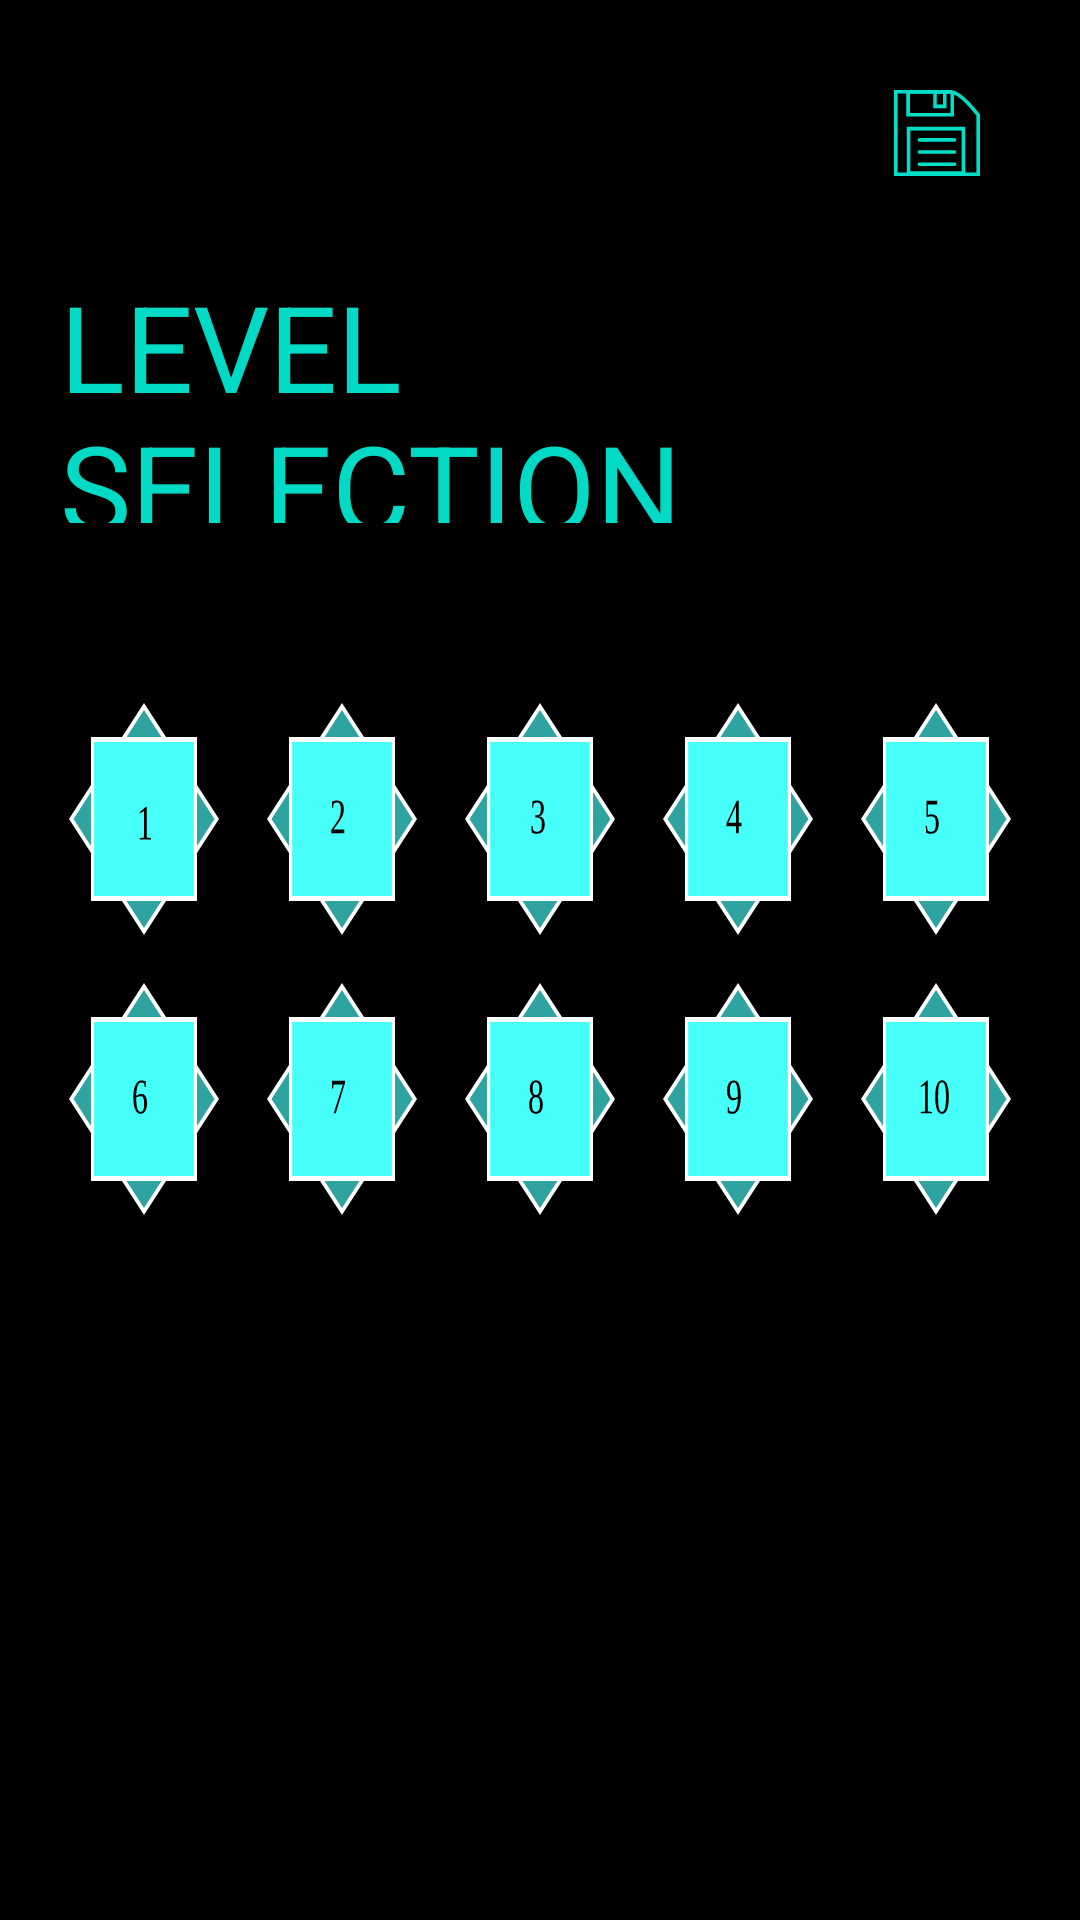

Screen size 1080*1920. Icon name, then its box in pixels as {"x1": x1, "y1": y1, "x2": x2, "y2": y2}:
Saves progress: {"x1": 894, "y1": 90, "x2": 980, "y2": 176}
